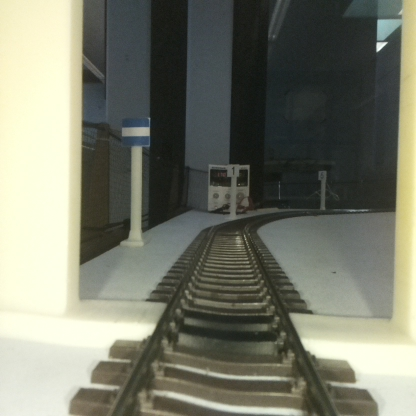start: (122, 118, 149, 246)
white-info-1: (227, 164, 239, 218)
